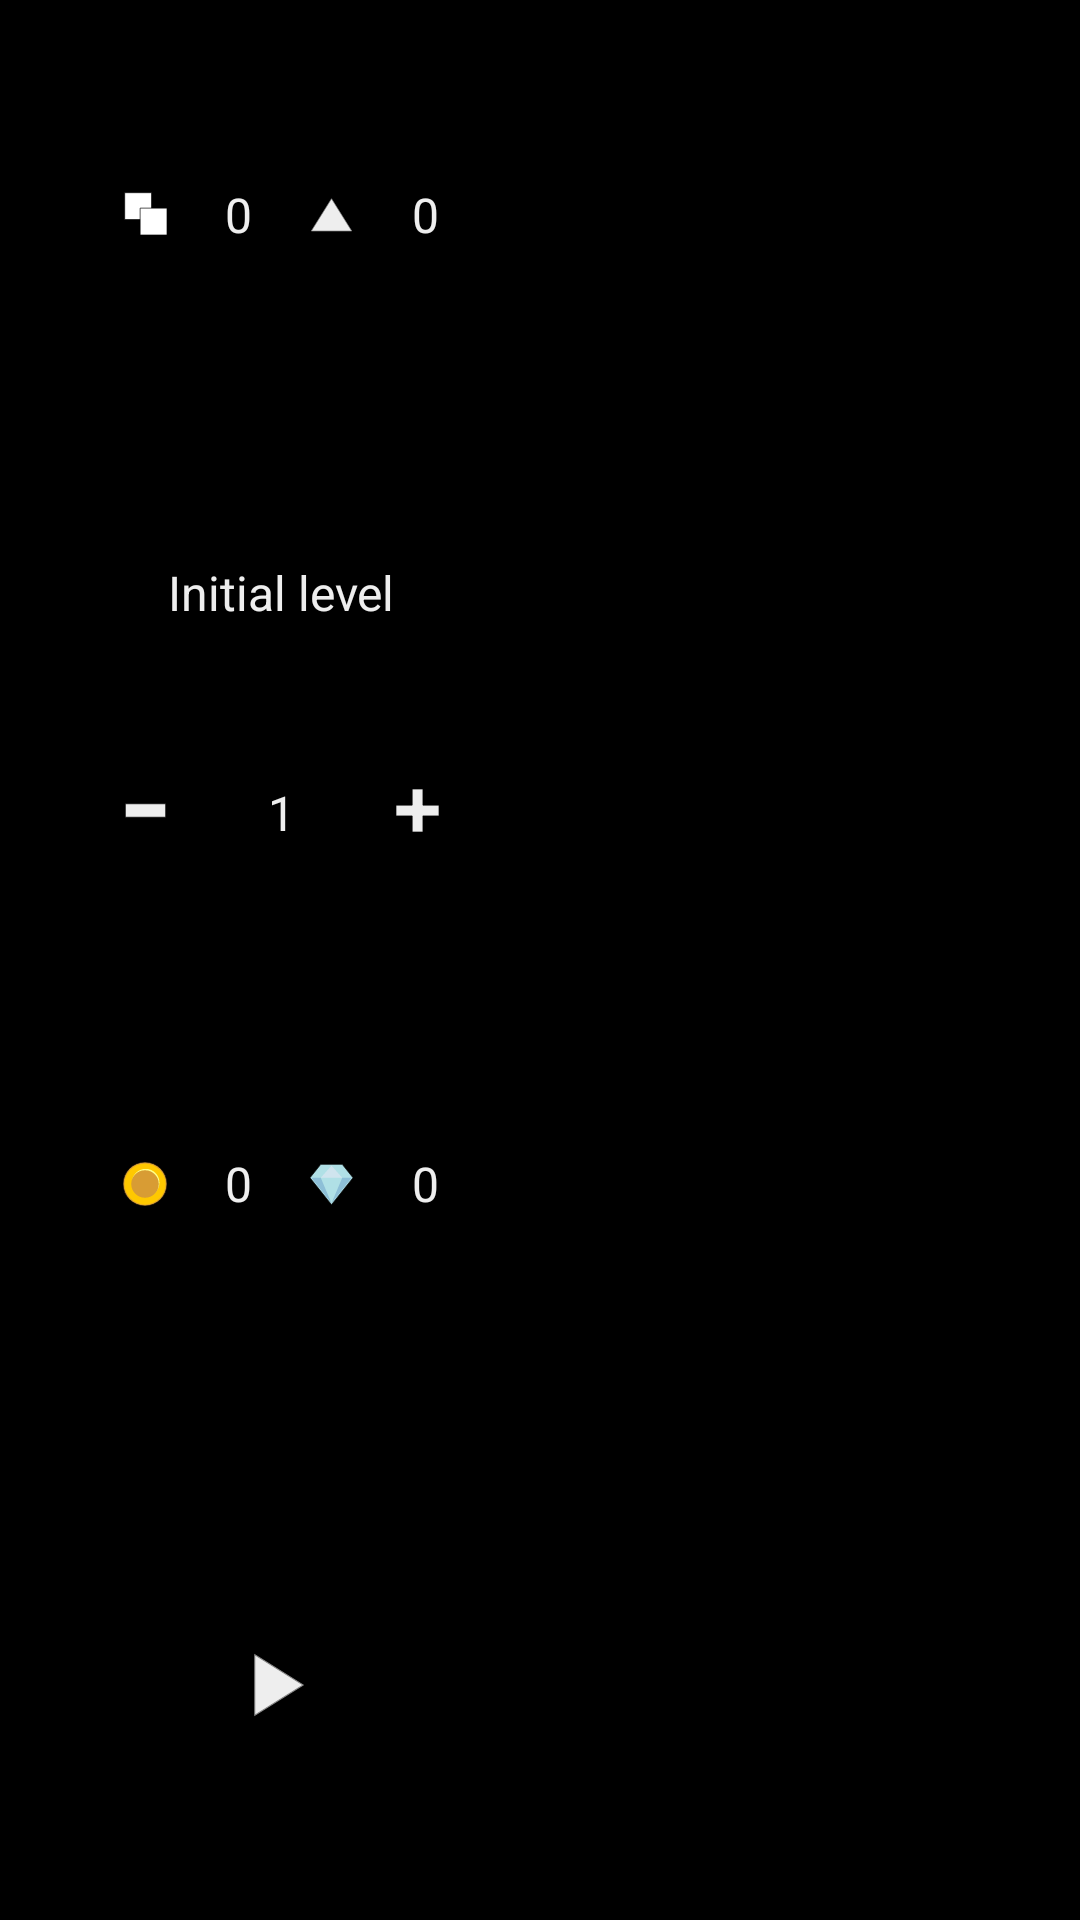

Icon click points for this 1080x1920 phone screenshot, format point (x, y):
ui coin: point (145, 1184)
ui diamond: point (331, 1184)
ui minus: point (145, 810)
ui play: point (279, 1685)
ui plus: point (417, 810)
